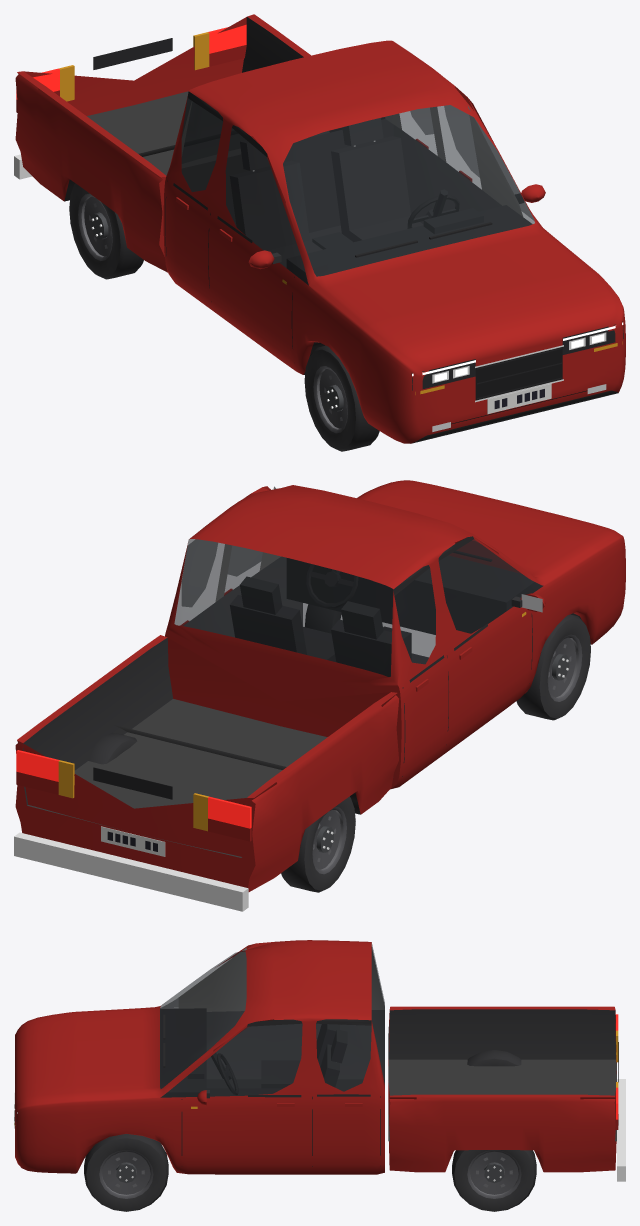
File: pickup_red.glb
3 renders of one model, top to bottom at view 1: azimuth 30°, elevation 25°; view 2: azimuth 150°, elevation 25°; view 3: azimuth 270°, elevation 25°, orthographic. The views are drawn at different scales.
Parts seen in each view (by area): view 1: pickup_red_body, Wheel_FR, Wheel_RR; view 2: pickup_red_body, Wheel_FR, Wheel_RR, Wheel_RL, Wheel_FL; view 3: pickup_red_body, Wheel_FL, Wheel_RL, Wheel_RR.
Part boxes in pixels (x1,y1,x2,y2): pickup_red_body: (14, 14, 625, 443); Wheel_FR: (304, 345, 379, 451); Wheel_RR: (69, 183, 143, 279); pickup_red_body: (14, 480, 625, 911); Wheel_FR: (516, 614, 590, 720); Wheel_RR: (281, 796, 355, 892); Wheel_RL: (88, 732, 137, 764); Wheel_FL: (305, 604, 341, 633); pickup_red_body: (14, 940, 625, 1181); Wheel_FL: (84, 1134, 168, 1211); Wheel_RL: (452, 1150, 536, 1211); Wheel_RR: (467, 1050, 521, 1066).
Bounding box in the file's own units: 0.1198 × 0.0957 × 0.2744.
8 materials, 1 textured.
